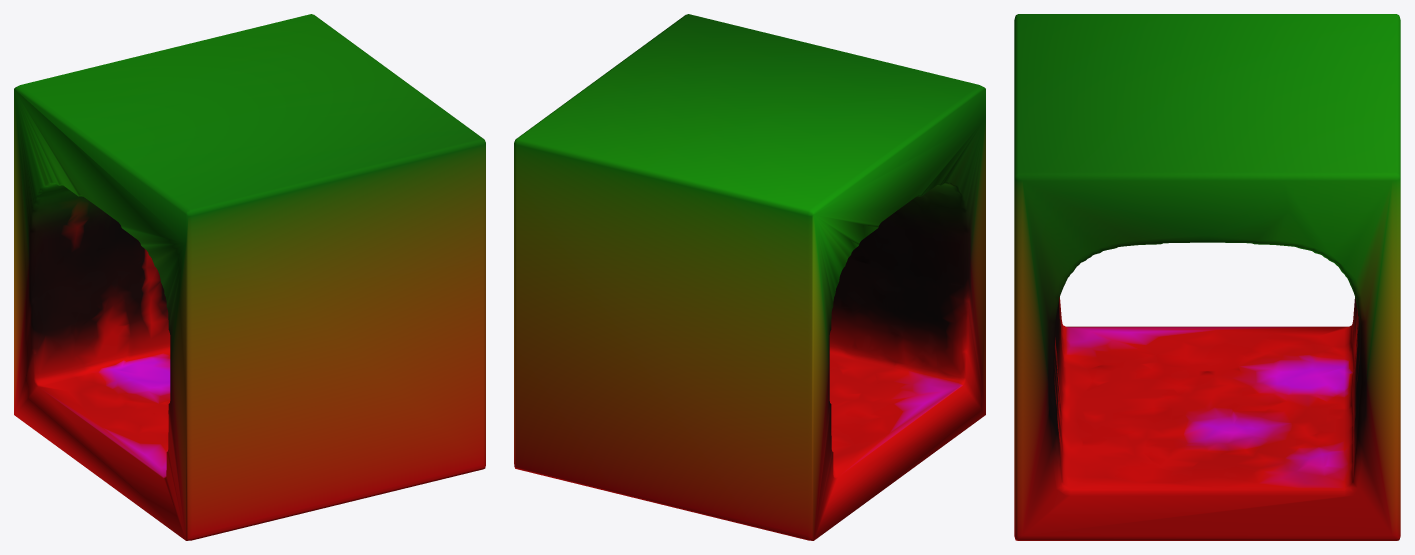
Rendered from SM_Mine_Tunnel_Straight.fbx.
3 views of the same model, side by side, from view 1: azimuth 30°, elevation 25°; view 2: azimuth 150°, elevation 25°; view 3: azimuth 270°, elevation 25° (orthographic). The views are drawn at different scales.
Parts seen in each view (by area): view 1: SM_Mine_Tunnel_Straight; view 2: SM_Mine_Tunnel_Straight; view 3: SM_Mine_Tunnel_Straight.
Boxes of the visible parts, <box> form: SM_Mine_Tunnel_Straight: <box>14,14,485,540</box>; SM_Mine_Tunnel_Straight: <box>514,14,985,540</box>; SM_Mine_Tunnel_Straight: <box>1014,14,1400,540</box>.
Size of the model in its own units: 4 by 4.2 by 4.
